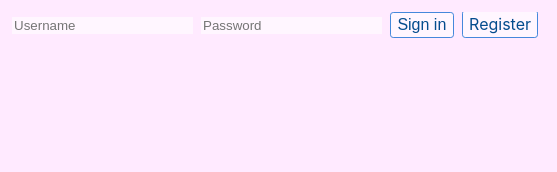
Test: form › username is required
Step 1. Type "username" into the field with placeholder "Username" → (102, 25), box [12,17,193,34]
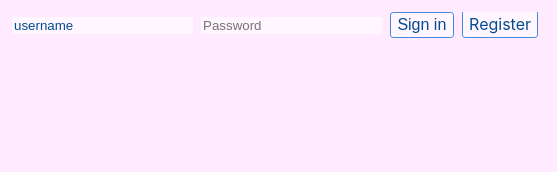
Step 2. Type "password" into the password field with placeholder "Password" → (292, 25), box [201,17,382,34]
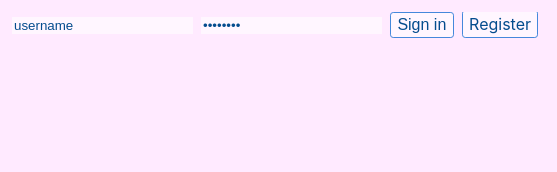
Step 3. Clear the field → (102, 25), box [12,17,193,34]
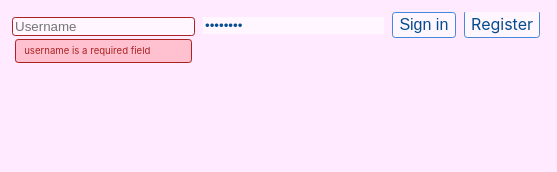
Expected: the message "username is a required field" is shown, [15,39,192,63]
